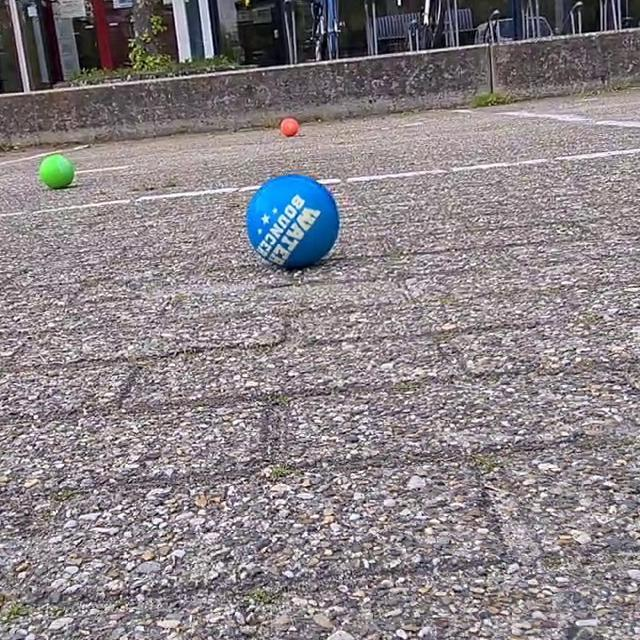ball: (35, 153, 78, 192), (279, 114, 300, 140)
